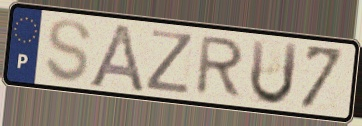7: (301, 43, 347, 113)
A: (85, 21, 147, 95)
R: (192, 34, 248, 101)
S: (43, 17, 94, 85)
U: (247, 37, 301, 108)
Z: (143, 27, 196, 96)
